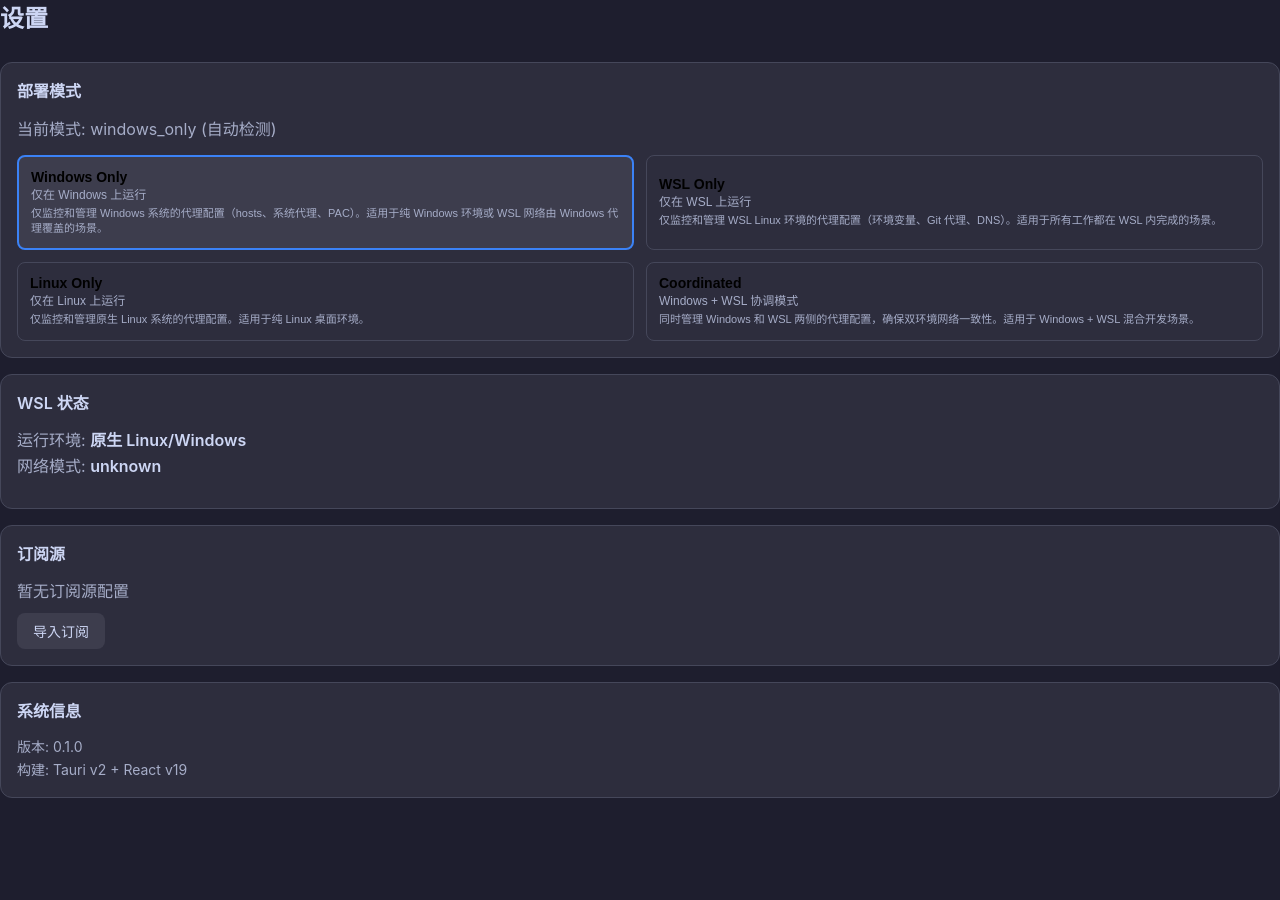
Test: SettingsPage › shows import dialog when import button clicked
This screenshot has width=1280, height=900.
Click the button "导入订阅" at {"x": 61, "y": 631}, box [17,613,105,649]
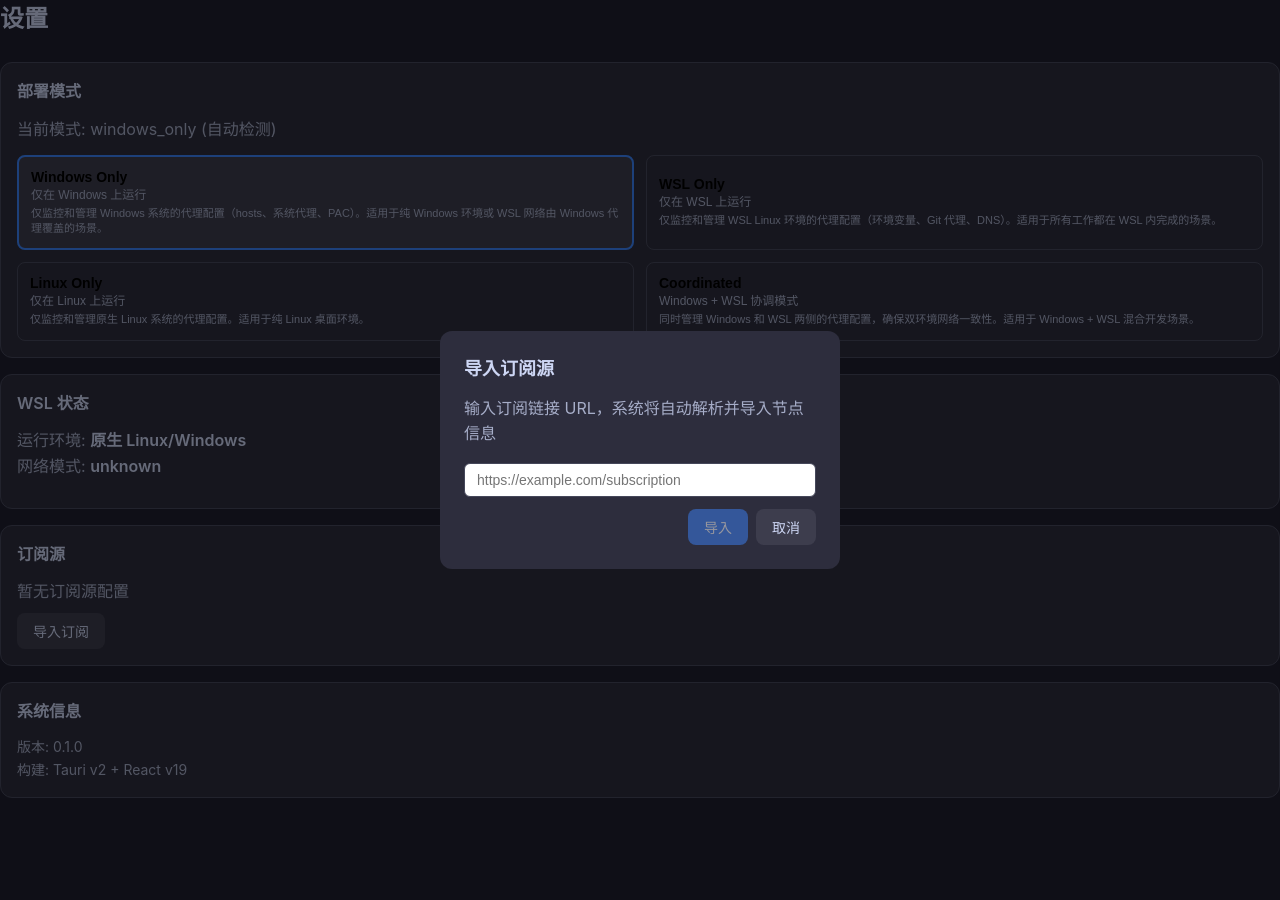
Expected: the field with placeholder "https://example.com/subscription" is shown, [464,463,816,497]
